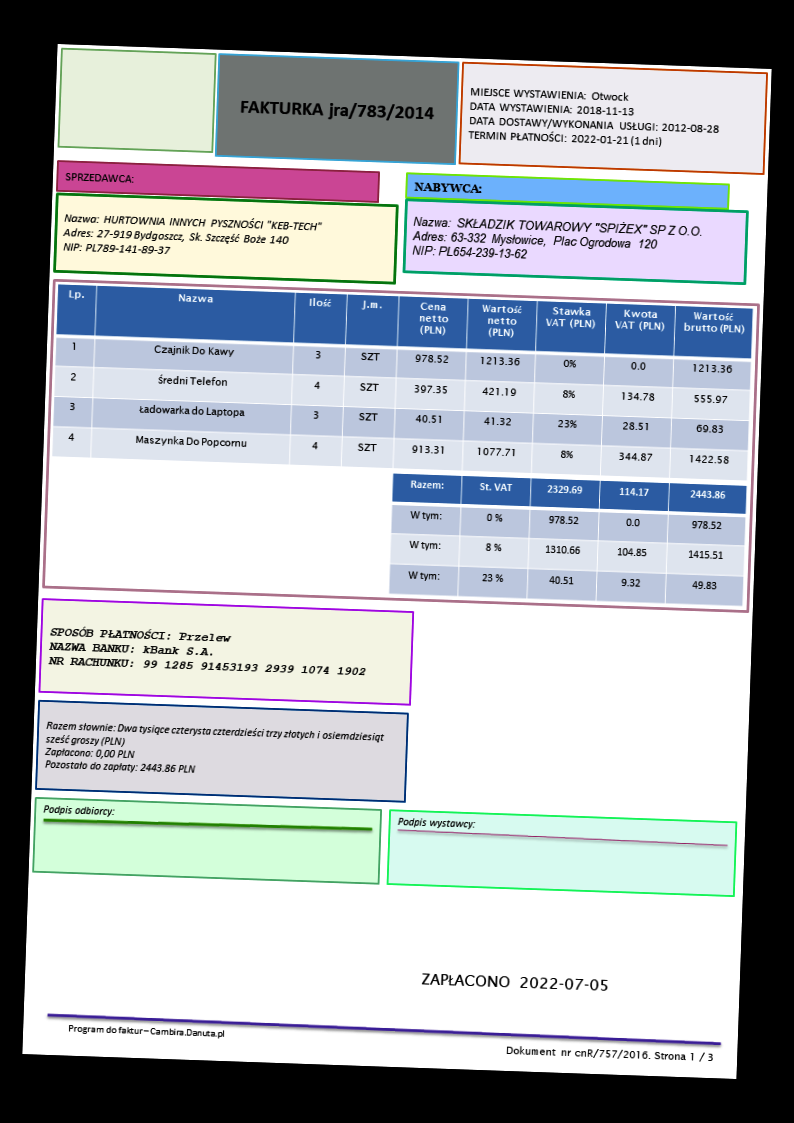Table: (50, 282, 754, 481), (388, 471, 746, 606)
TextBox: (42, 717, 387, 784), (47, 622, 368, 681), (466, 83, 724, 152), (408, 211, 703, 271), (60, 209, 323, 266), (236, 95, 437, 124), (418, 968, 609, 994), (504, 1042, 716, 1065), (65, 1020, 228, 1041), (394, 813, 476, 833), (41, 800, 116, 820), (61, 167, 135, 187), (411, 178, 484, 197)
